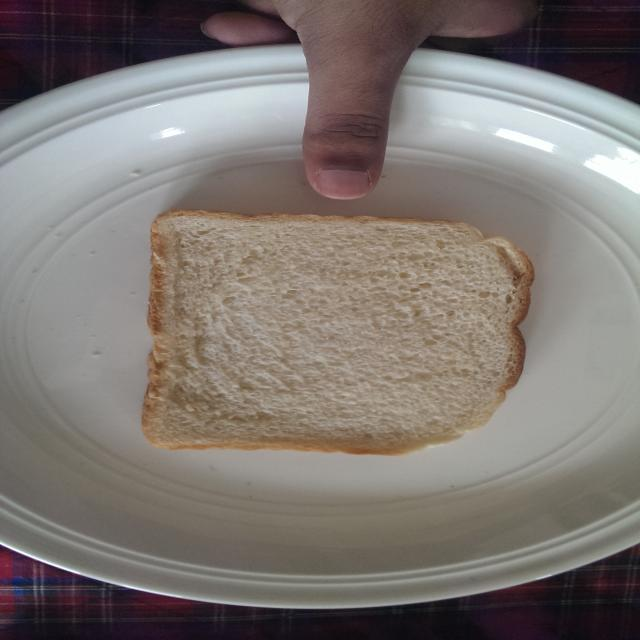bread: (128, 208, 541, 483)
